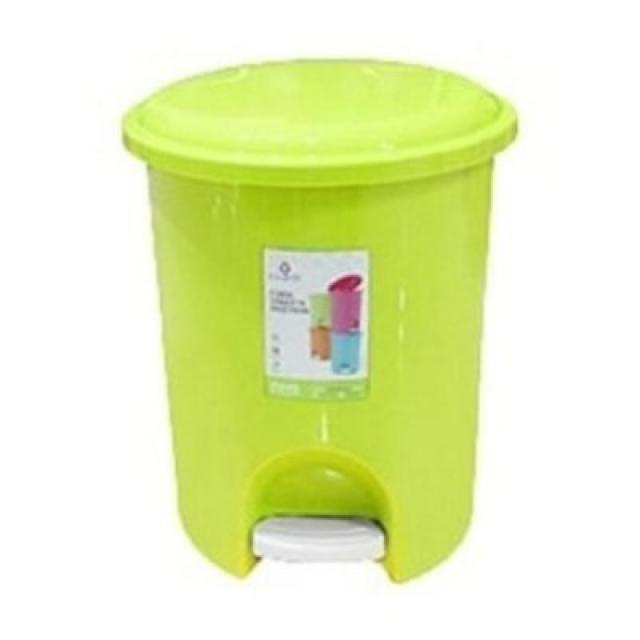Dumpster: (122, 54, 516, 584)
